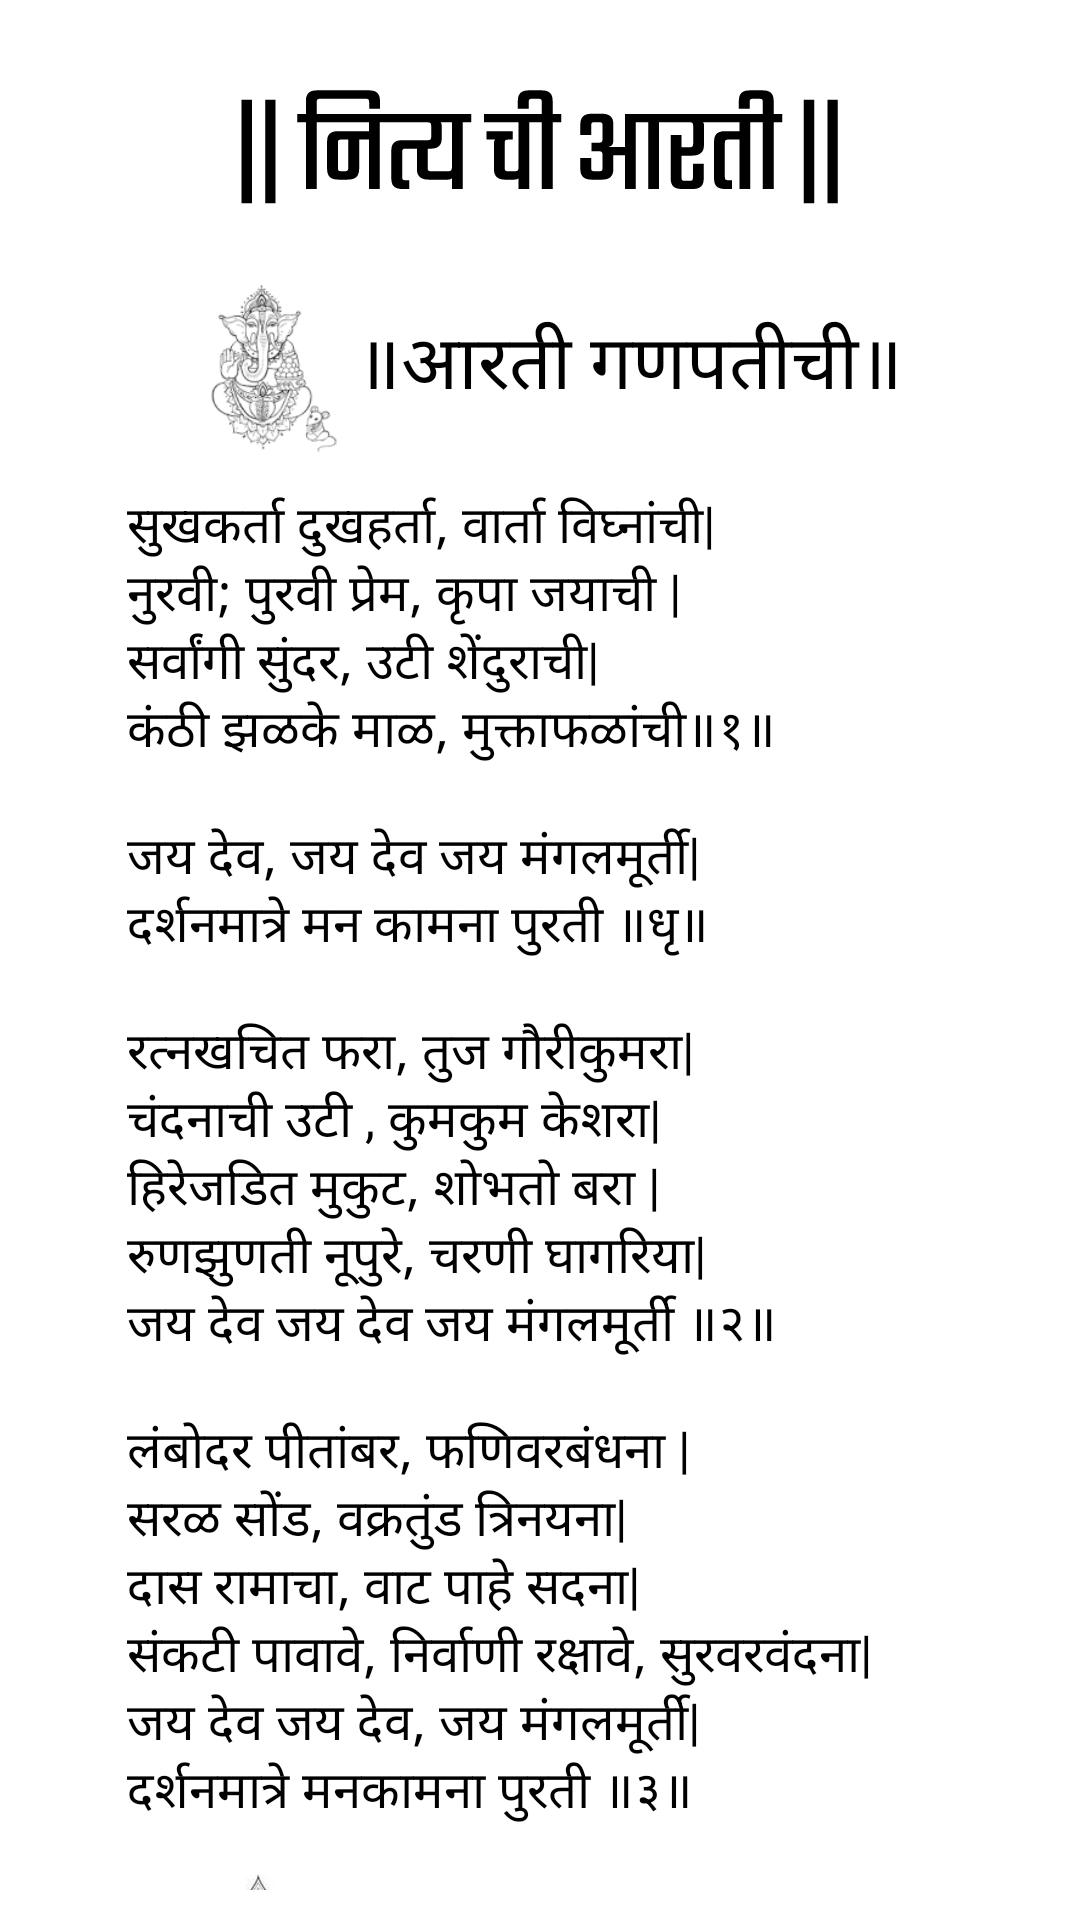

Screen size 1080 × 1920. Icon name, then its center in pixels as point (x, y):
ganapati: point (274, 368)
